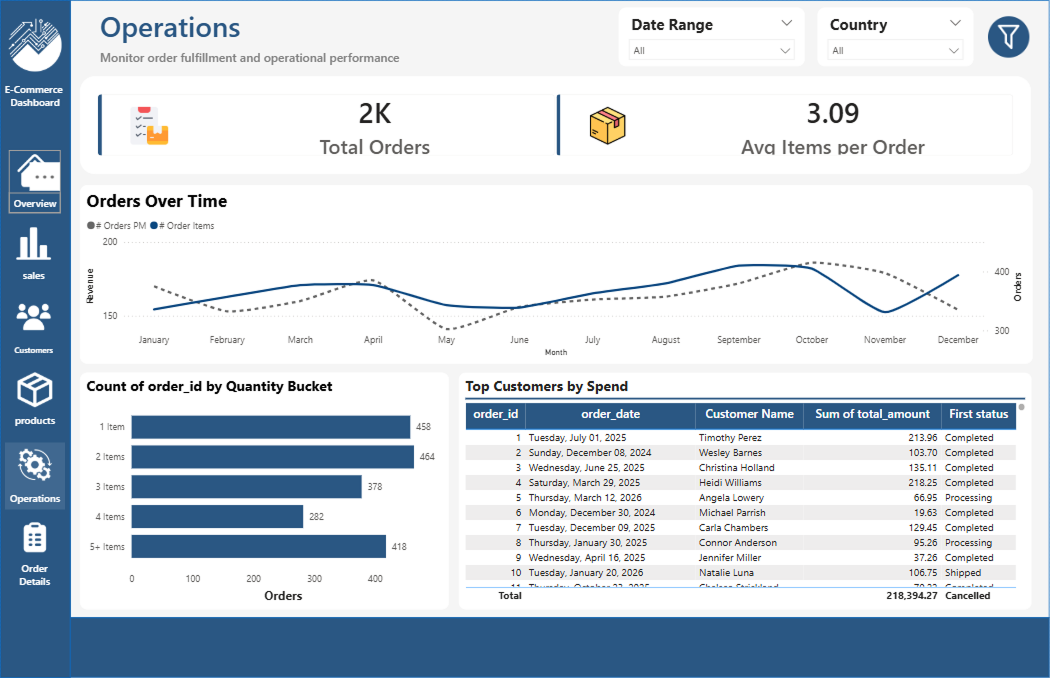

What the dashboard file says about the page in this screenshot:
{"tool":"powerbi","page":{"name":"Operations","canvas":[1400,920],"ordinal":4},"visuals":[{"type":"shape","box":[94,0,1306,824],"z":0},{"type":"image","box":[22.5,492.4,46.7,55.8],"z":0,"group":"g3"},{"type":"image","box":[22.1,590.7,46.7,58.8],"z":0,"group":"g5"},{"type":"image","box":[22.8,688.5,46.7,55.8],"z":0,"group":"g6"},{"type":"textbox","box":[10.8,548.2,70,29.2],"z":1000,"group":"g3"},{"type":"textbox","box":[6.3,650,80,30.7],"z":1000,"group":"g5"},{"type":"textbox","box":[12,744,69,51],"z":1000,"group":"g6"},{"type":"shape","box":[94,824,1306,80],"z":1000},{"type":"shape","box":[0,0,94,904],"z":2000},{"type":"lineChart","title":"Orders Over Time","fields":{"Category":["DateTable.Date.Variation.Date Hierarchy.Month"],"Y":["_Measures.# Orders PM"],"Y2":["_Measures.# Order Items"]},"box":[106,246,1270,238],"z":3000},{"type":"cardVisual","fields":{"Data":["_Measures.Total Orders","_Measures.Avg Items per Order"]},"box":[106.7,101.7,1268.3,130],"z":4000},{"type":"image","box":[12,24,70,74],"z":5000},{"type":"textbox","box":[128.3,5,376.7,71.7],"z":6000},{"type":"tableEx","title":"Top Customers by Spend","fields":{"Values":["orders.order_id","orders.order_date","customers.Customer Name","Sum(orders.total_amount)","Min(orders.status)"]},"box":[612,496,764,316],"z":7000},{"type":"textbox","box":[128,60,620,38],"z":8000},{"type":"image","box":[1313.3,21.7,63.3,55],"z":9000},{"type":"textbox","box":[0,104.3,93.5,48.7],"z":10000},{"type":"group","id":"g1","title":"Group 1","box":[11.7,200,70,85],"z":11000},{"type":"group","id":"g2","title":"Group 2","box":[10,297.5,70,85],"z":12000},{"type":"group","id":"g3","title":"Group 4","box":[10.8,492.4,70,85],"z":13000},{"type":"group","id":"g4","title":"Group 2","box":[9.2,394.9,70,85],"z":14000},{"type":"slicer","fields":{"Values":["DateTable.Year","DateTable.Month"]},"box":[825,10,248.3,78.3],"z":15000},{"type":"slicer","fields":{"Values":["customers.Customer Name"]},"box":[1090,10,208.3,78.3],"z":16000},{"type":"barChart","fields":{"Category":["orders.Quantity Bucket"],"Y":["CountNonNull(orders.order_id)"]},"box":[106,496,492,316],"z":17000},{"type":"group","id":"g5","title":"Group 4","box":[6.3,590.7,80,90],"z":18000},{"type":"group","id":"g6","title":"Group 4","box":[12,688.5,69,106.5],"z":19000},{"type":"image","box":[23.4,200,46.7,55.8],"z":20000,"group":"g1"},{"type":"textbox","box":[11.7,255.8,70,29.2],"z":21000,"group":"g1"},{"type":"image","box":[21.7,297.5,46.7,55.8],"z":22000,"group":"g2"},{"type":"image","box":[20.9,394.9,46.7,55.8],"z":22000,"group":"g4"},{"type":"textbox","box":[10,353.3,70,29.2],"z":23000,"group":"g2"},{"type":"textbox","box":[9.2,450.7,70,29.2],"z":23000,"group":"g4"}]}

Visuals, with their boxes on the page's 1400x920 design canvas (x1, y1, x2, y2). These are canvas units, not pixel positions in the 1050x678 screenshot, which may show the page scaled, cropped or inside an application window:
shape: <region>94, 0, 1400, 824</region>
image: <region>22, 492, 69, 548</region>
image: <region>22, 591, 69, 650</region>
image: <region>23, 688, 70, 744</region>
textbox: <region>11, 548, 81, 577</region>
textbox: <region>6, 650, 86, 681</region>
textbox: <region>12, 744, 81, 795</region>
shape: <region>94, 824, 1400, 904</region>
shape: <region>0, 0, 94, 904</region>
"Orders Over Time" lineChart: <region>106, 246, 1376, 484</region>
cardVisual - _Measures.Total Orders x _Measures.Avg Items per Order: <region>107, 102, 1375, 232</region>
image: <region>12, 24, 82, 98</region>
textbox: <region>128, 5, 505, 77</region>
"Top Customers by Spend" tableEx: <region>612, 496, 1376, 812</region>
textbox: <region>128, 60, 748, 98</region>
image: <region>1313, 22, 1377, 77</region>
textbox: <region>0, 104, 94, 153</region>
"Group 1" group: <region>12, 200, 82, 285</region>
"Group 2" group: <region>10, 298, 80, 382</region>
"Group 4" group: <region>11, 492, 81, 577</region>
"Group 2" group: <region>9, 395, 79, 480</region>
slicer - DateTable.Year x DateTable.Month: <region>825, 10, 1073, 88</region>
slicer - customers.Customer Name: <region>1090, 10, 1298, 88</region>
barChart - orders.Quantity Bucket x CountNonNull(orders.order_id): <region>106, 496, 598, 812</region>
"Group 4" group: <region>6, 591, 86, 681</region>
"Group 4" group: <region>12, 688, 81, 795</region>
image: <region>23, 200, 70, 256</region>
textbox: <region>12, 256, 82, 285</region>
image: <region>22, 298, 68, 353</region>
image: <region>21, 395, 68, 451</region>
textbox: <region>10, 353, 80, 382</region>
textbox: <region>9, 451, 79, 480</region>
